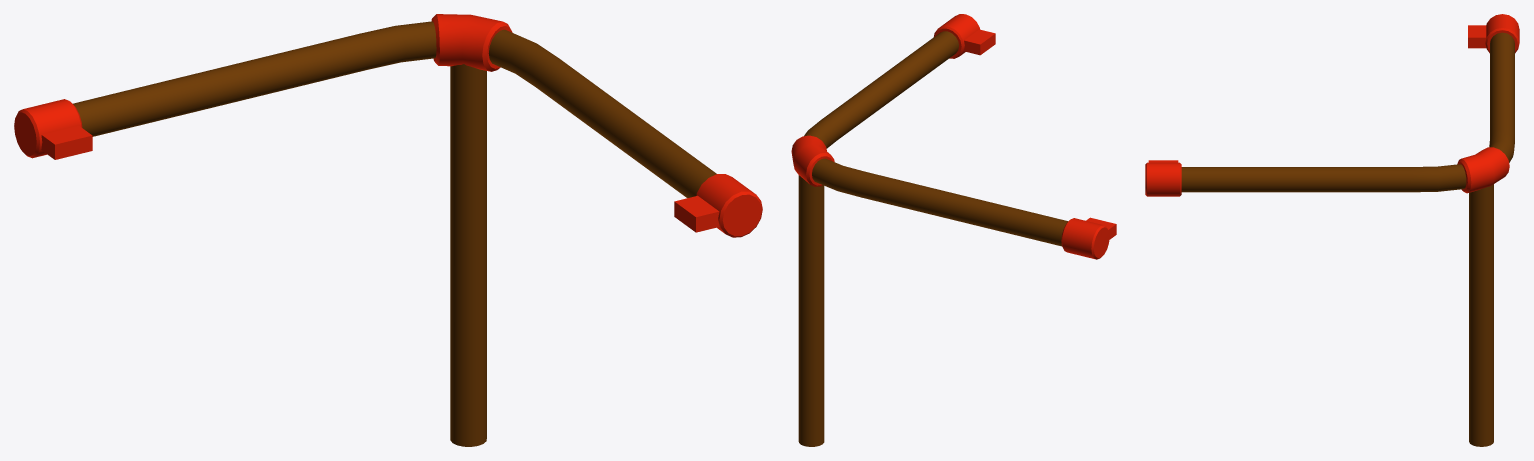
The model's file is Rail_curve.fbx.
3 renders of one model, left to right at view 1: azimuth 30°, elevation 25°; view 2: azimuth 150°, elevation 25°; view 3: azimuth 270°, elevation 25°, orthographic. The views are drawn at different scales.
Visible parts, largest first — view 1: Rail_Curve; view 2: Rail_Curve; view 3: Rail_Curve.
Boxes of the visible parts, <box> form: Rail_Curve: <box>14,14,762,446</box>; Rail_Curve: <box>791,14,1116,446</box>; Rail_Curve: <box>1145,14,1519,446</box>.
Bounding box in the file's own units: 1.11 × 0.9398 × 1.11.
